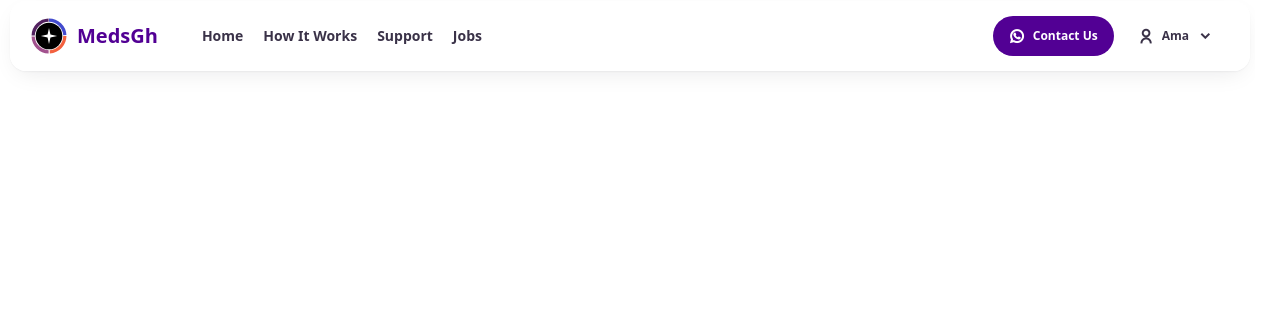
it: Navbar: signed-in customer › shows the email when there is no phone number
Click the button "Ama": [1175, 36] box [1122,16,1229,56]
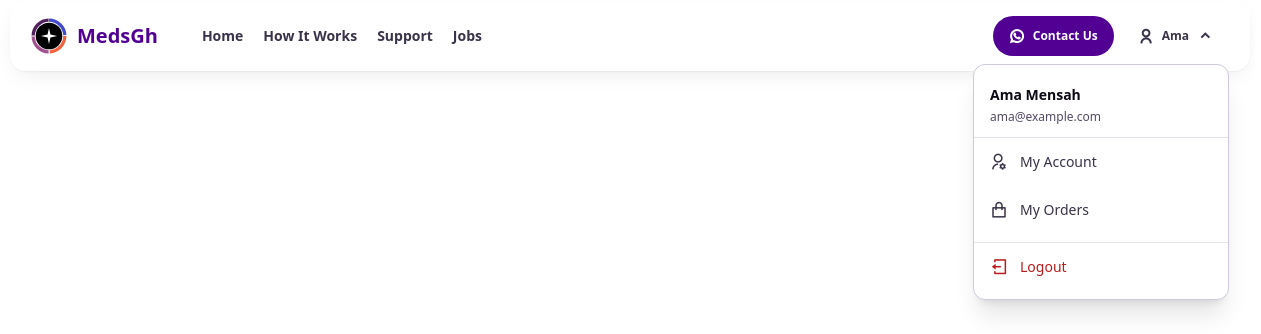
Check: the element showing "Ama Ama Mensah ama@example.com My Account My Orders Logout" is shown, box [1122,16,1229,56]
